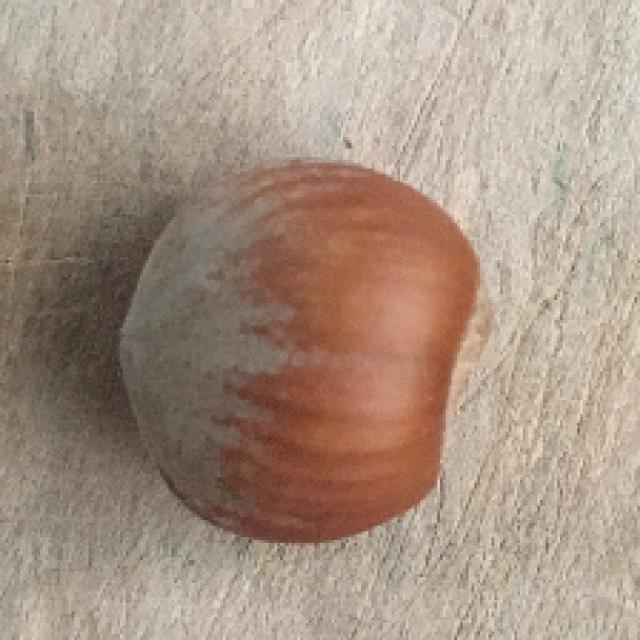qualityHazelnut: (114, 155, 496, 551)
